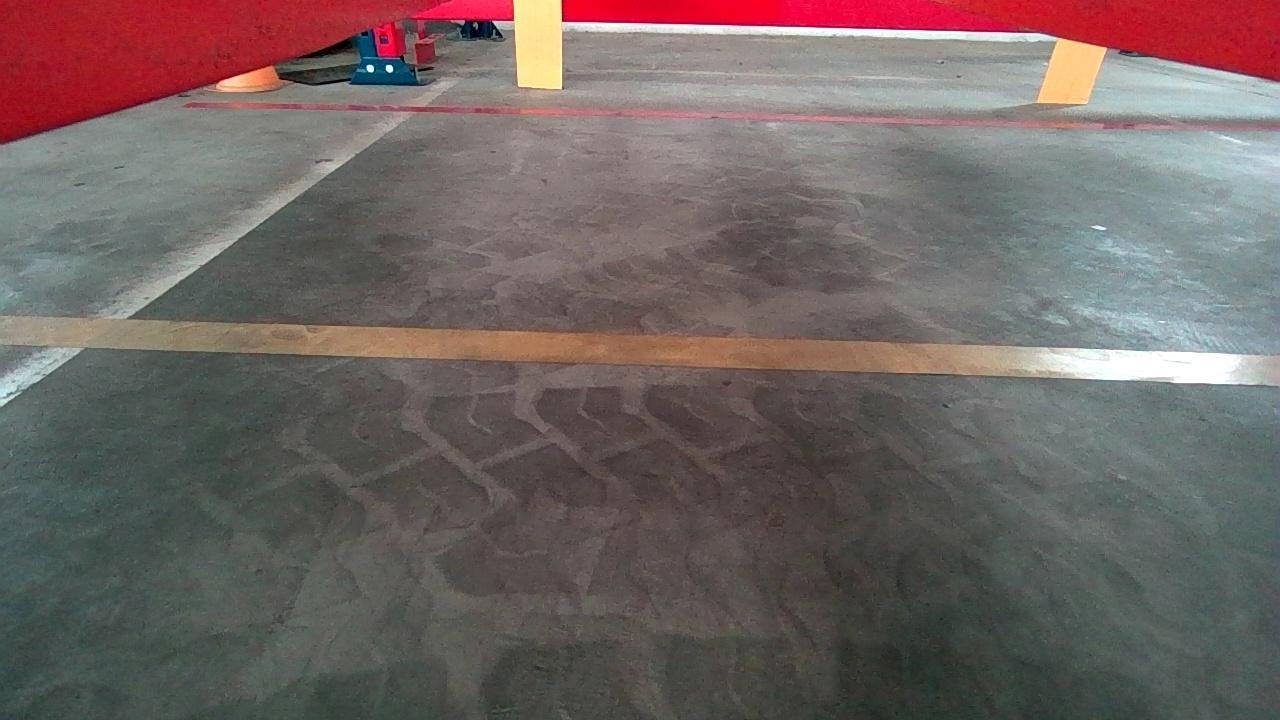h_rack: (414, 0, 1012, 28)
orange_strip: (513, 1, 564, 89), (1038, 36, 1106, 100)
red_line: (184, 99, 1280, 131)
yellow_line: (1, 316, 1278, 386)
